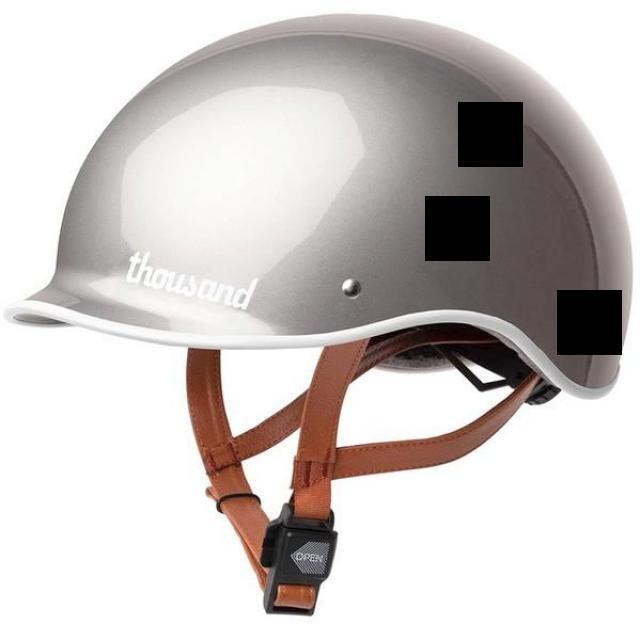helmet: (3, 12, 633, 405)
